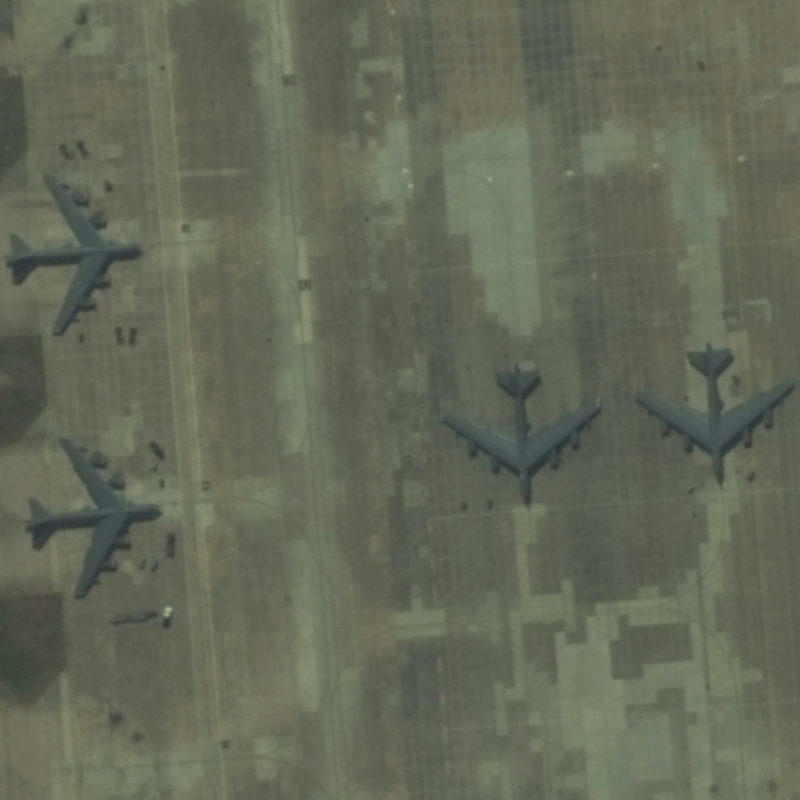A8: (626, 336, 800, 495), (14, 425, 166, 605), (432, 360, 607, 512), (4, 167, 150, 342)
